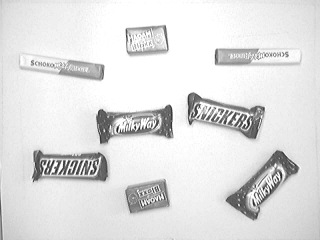Maoam: (123, 178, 174, 216), (123, 23, 172, 57)
Milkyway: (222, 148, 301, 222), (95, 104, 177, 144)
Riegel: (16, 51, 107, 83), (213, 46, 304, 69)
Snickers: (186, 90, 267, 143), (30, 147, 113, 192)
